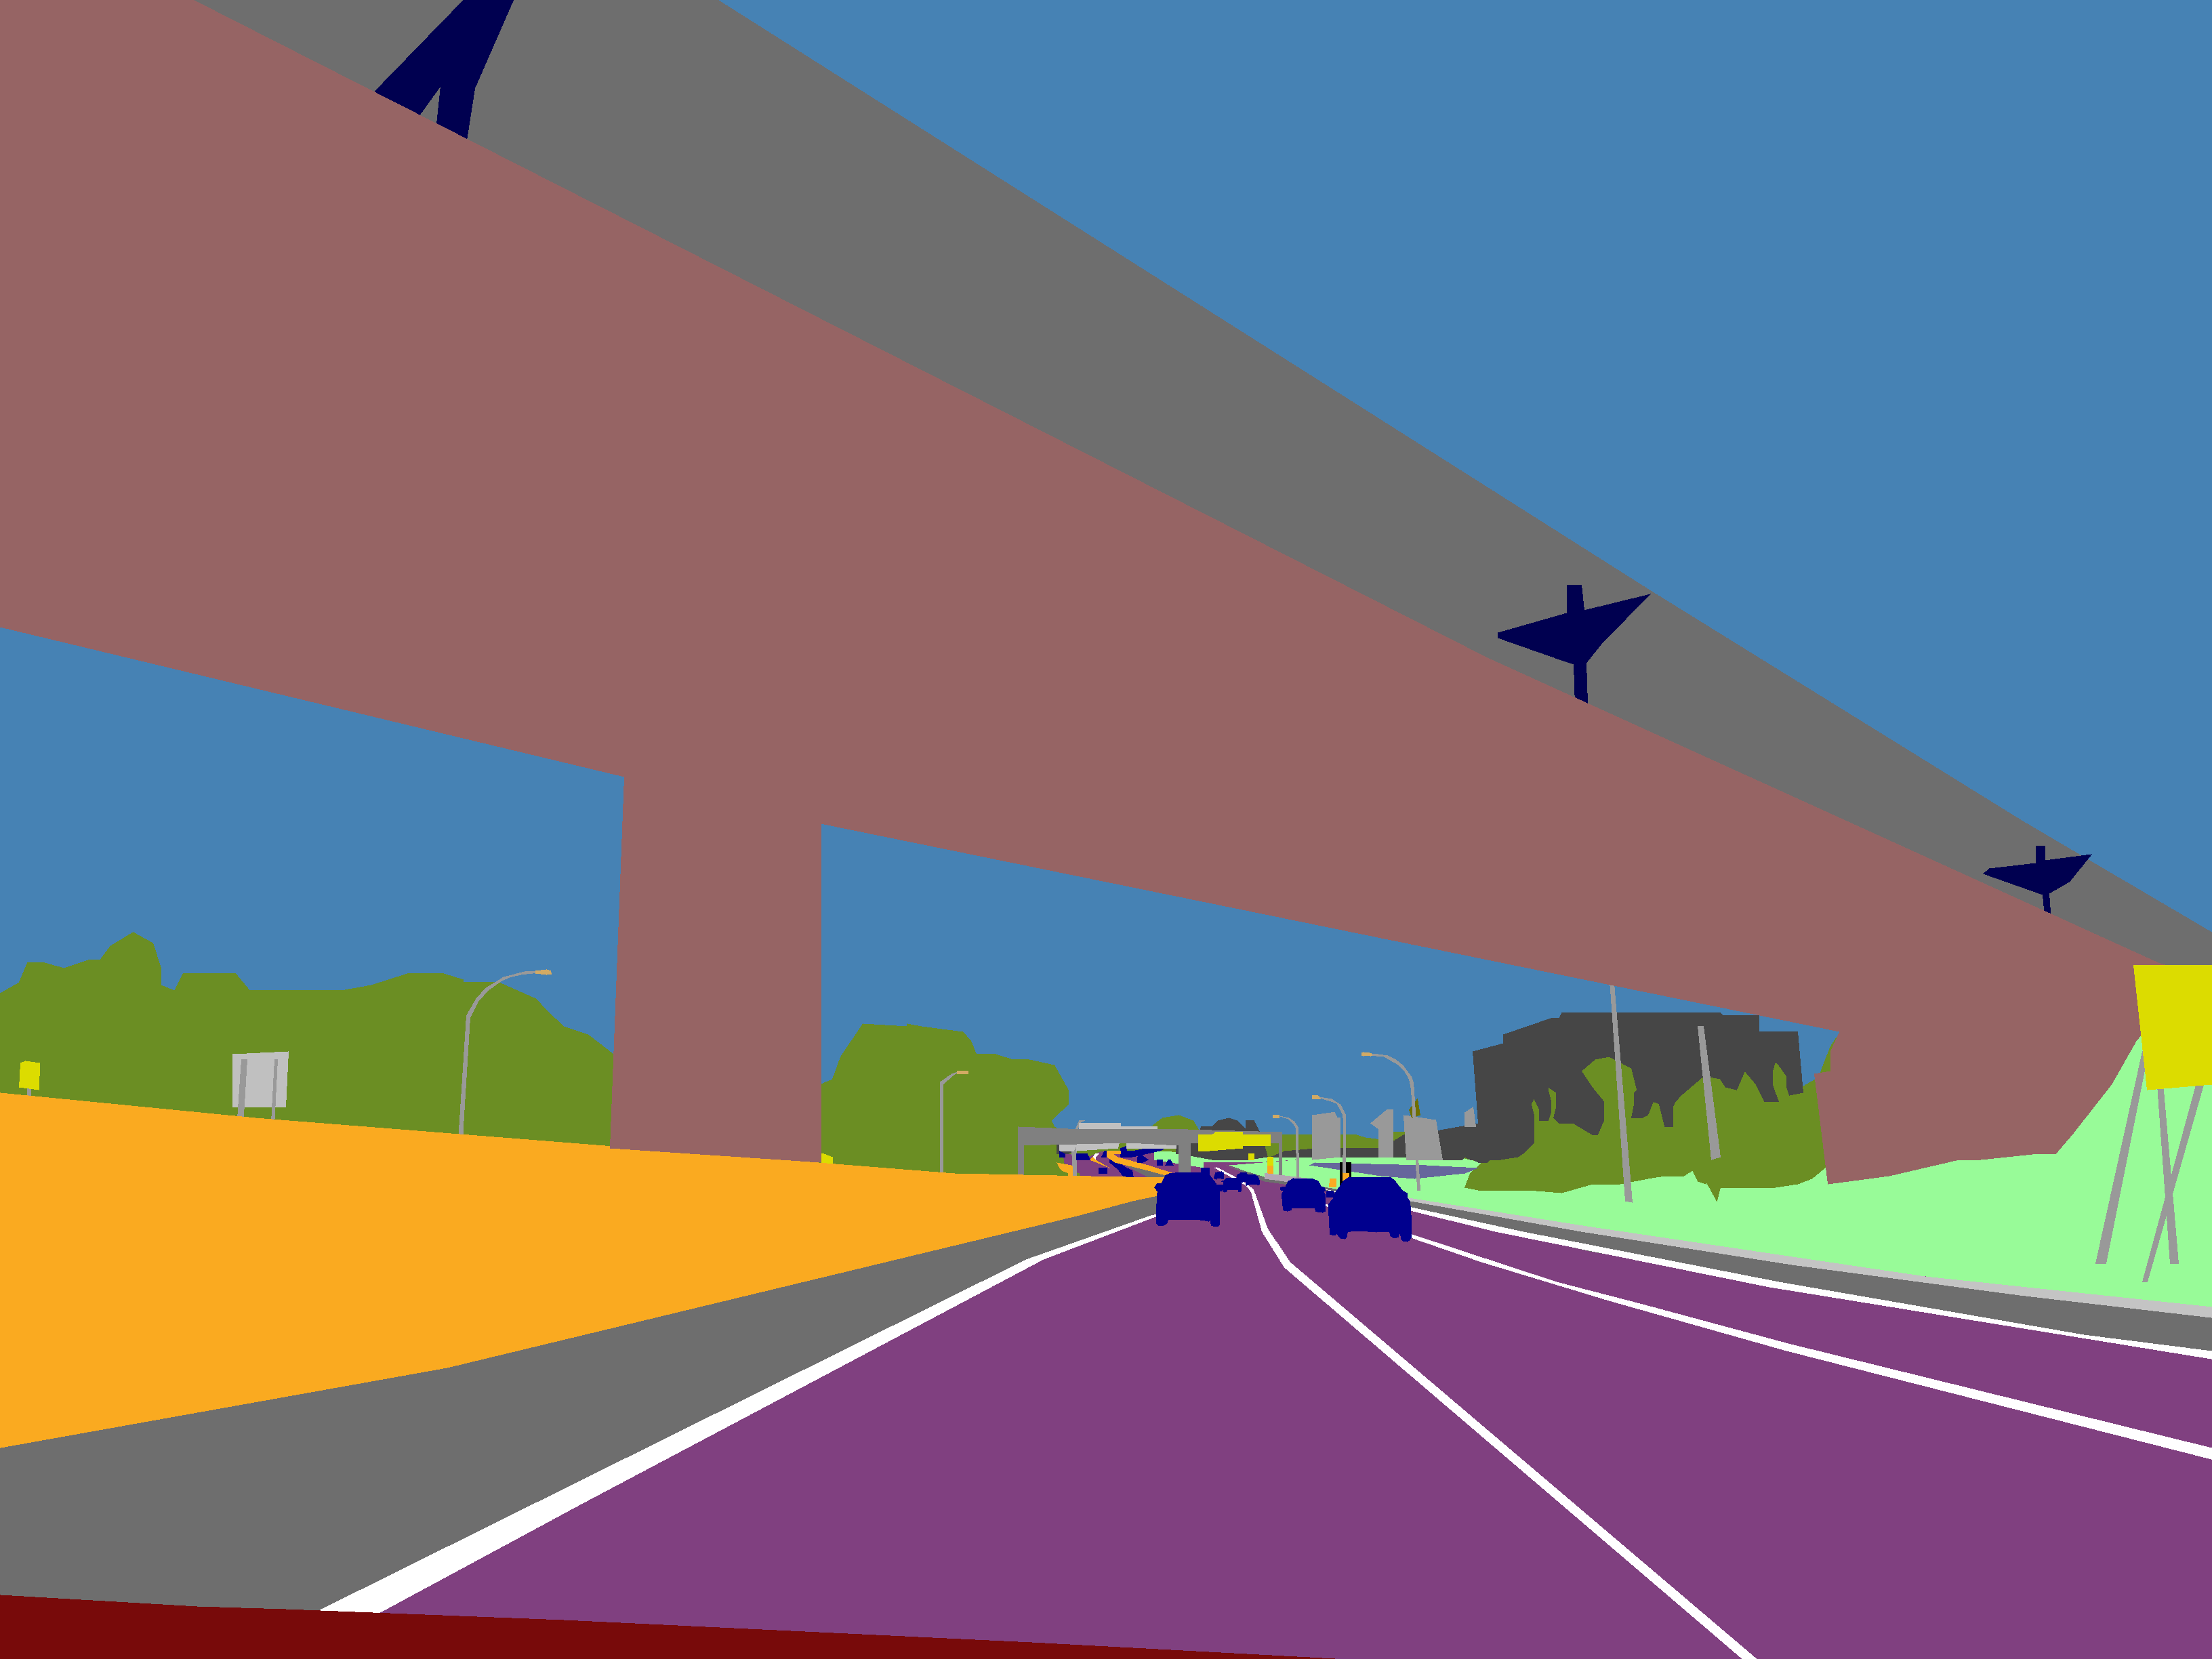construction--barrier--temporary: (1329, 1178, 1336, 1187), (1343, 1173, 1348, 1180)
object--street-light: (535, 969, 550, 974), (956, 1070, 968, 1073), (1362, 1053, 1372, 1056), (1312, 1094, 1320, 1098), (1273, 1115, 1278, 1117)
object--support--pole: (458, 971, 535, 1134), (2142, 1086, 2203, 1281), (2095, 1051, 2144, 1263), (1372, 1054, 1420, 1190), (1609, 985, 1632, 1202), (2156, 1089, 2179, 1263), (1698, 1026, 1721, 1159), (1320, 1096, 1345, 1173), (941, 1072, 956, 1171), (1280, 1115, 1299, 1178), (1071, 1121, 1085, 1175), (237, 1060, 247, 1115), (272, 1060, 277, 1119), (28, 1089, 31, 1094)
object--support--traffic-sign-frame: (1017, 1126, 1282, 1175)
object--support--utility-pole: (374, 0, 514, 138), (1498, 586, 1649, 702), (1982, 845, 2092, 913)
object--traffic-sign--back: (232, 1051, 287, 1107)
object--traffic-sign--direction-back: (1059, 1122, 1176, 1150)
object--traffic-sign--direction-front: (2134, 965, 2212, 1089), (1198, 1131, 1270, 1150)
object--traffic-sign--front: (19, 1061, 40, 1089), (822, 1154, 833, 1162), (1268, 1157, 1273, 1164), (1249, 1154, 1254, 1159)
object--vehicle--car: (1325, 1178, 1411, 1241), (1155, 1173, 1223, 1227), (1280, 1178, 1325, 1213), (1221, 1178, 1242, 1192), (1245, 1175, 1259, 1185), (1237, 1173, 1247, 1182), (1214, 1171, 1223, 1180), (1200, 1168, 1209, 1175), (1165, 1159, 1174, 1164), (1059, 1150, 1064, 1157), (1099, 1168, 1106, 1173), (1157, 1159, 1162, 1164)
